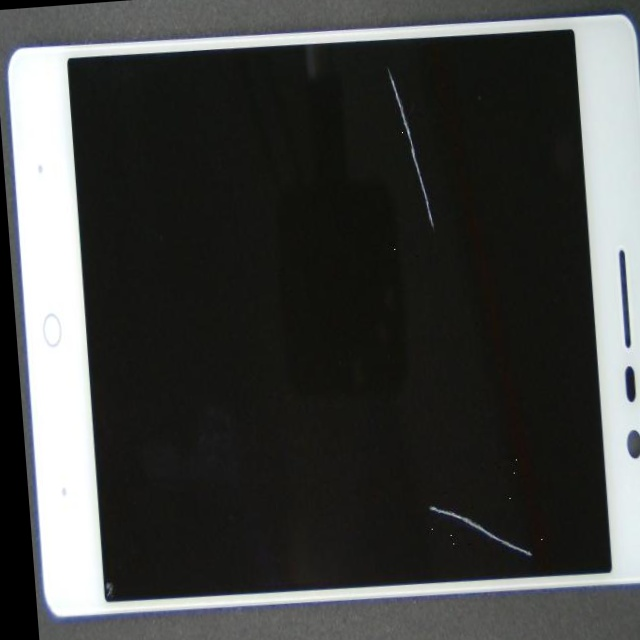scratch: (141, 217, 640, 640), (169, 0, 591, 189)
